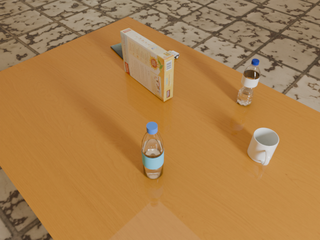bottle: (142, 122, 164, 179), (237, 59, 260, 106)
box: (120, 28, 174, 101)
cup: (248, 128, 279, 165)
phone: (111, 43, 123, 59)
toy_car: (168, 51, 179, 59)
